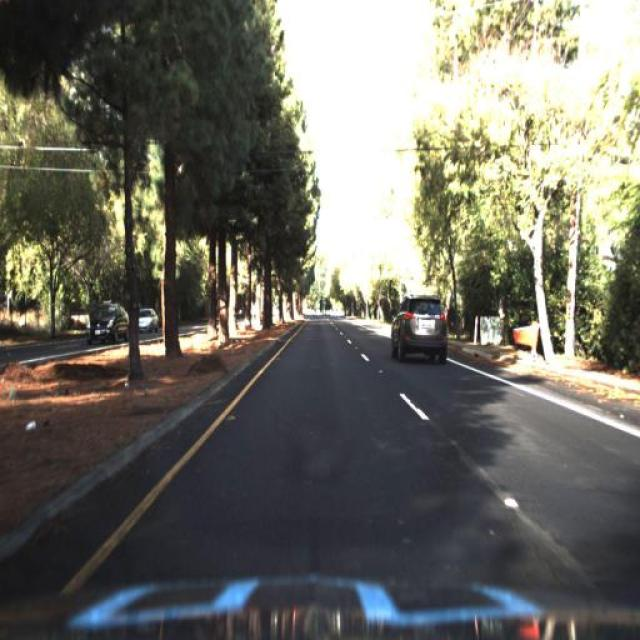car: (392, 295, 446, 364), (86, 304, 130, 344), (134, 299, 164, 337)
